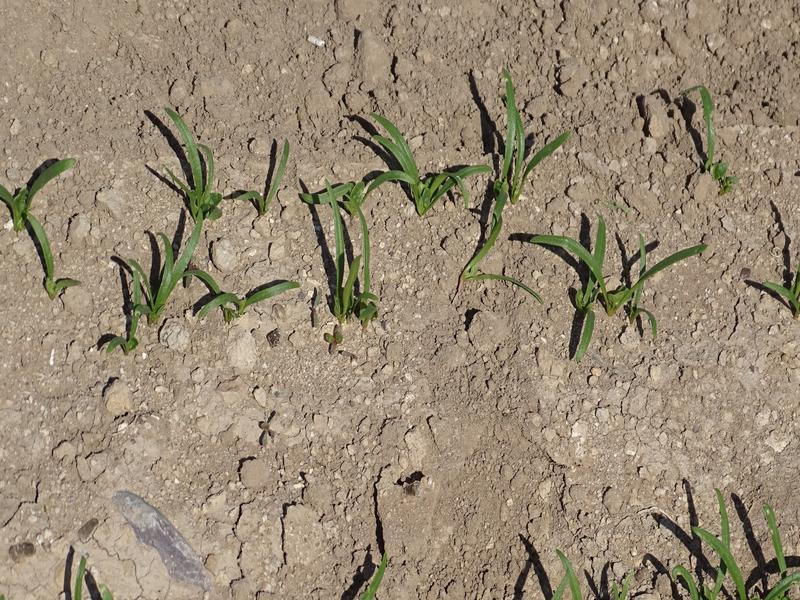Espinaca: (117, 218, 295, 343), (529, 218, 696, 344), (360, 120, 487, 218), (1, 154, 83, 300), (675, 504, 785, 600), (492, 94, 573, 196), (321, 194, 382, 321), (169, 114, 230, 218), (690, 86, 742, 187), (550, 543, 634, 600), (242, 141, 286, 215)
